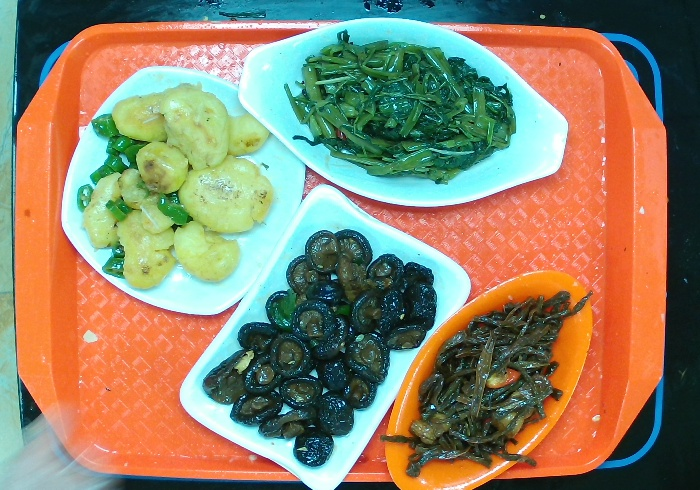RJxy-Ju_Huang_Tuo_Yuan: (386, 266, 596, 485)
RJxy-Si_Fang_Ao_Bian_Wan: (178, 180, 471, 488)
RJxy-Si_Fang_Die: (58, 60, 309, 317)
RJxy-Yu_Pan: (228, 16, 576, 214)
